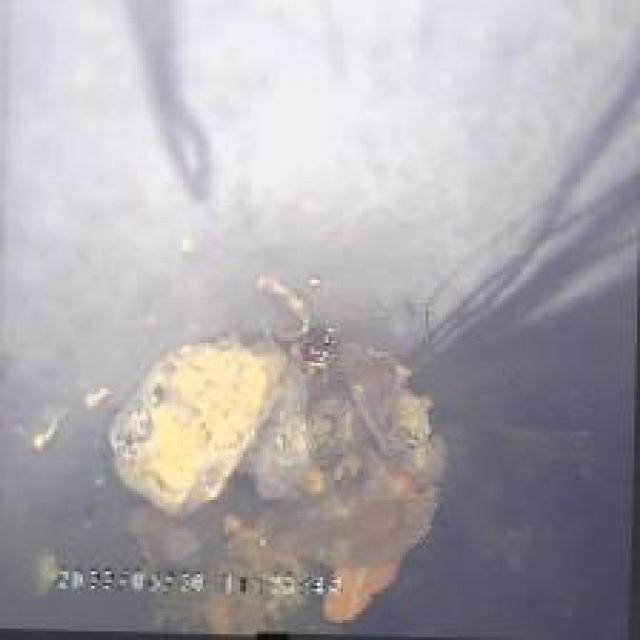stone: (94, 312, 486, 512)
